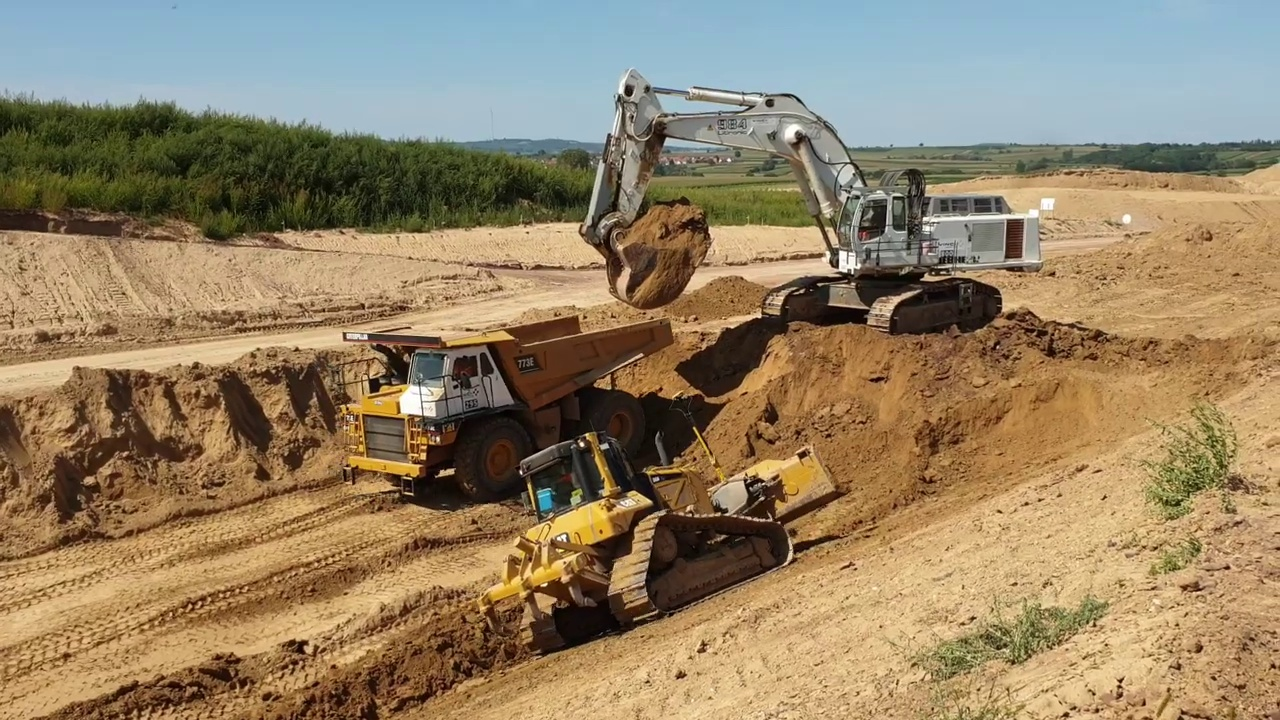bulldozer: (476, 389, 852, 655)
excavator: (578, 64, 1053, 341)
truck: (329, 310, 683, 503)
